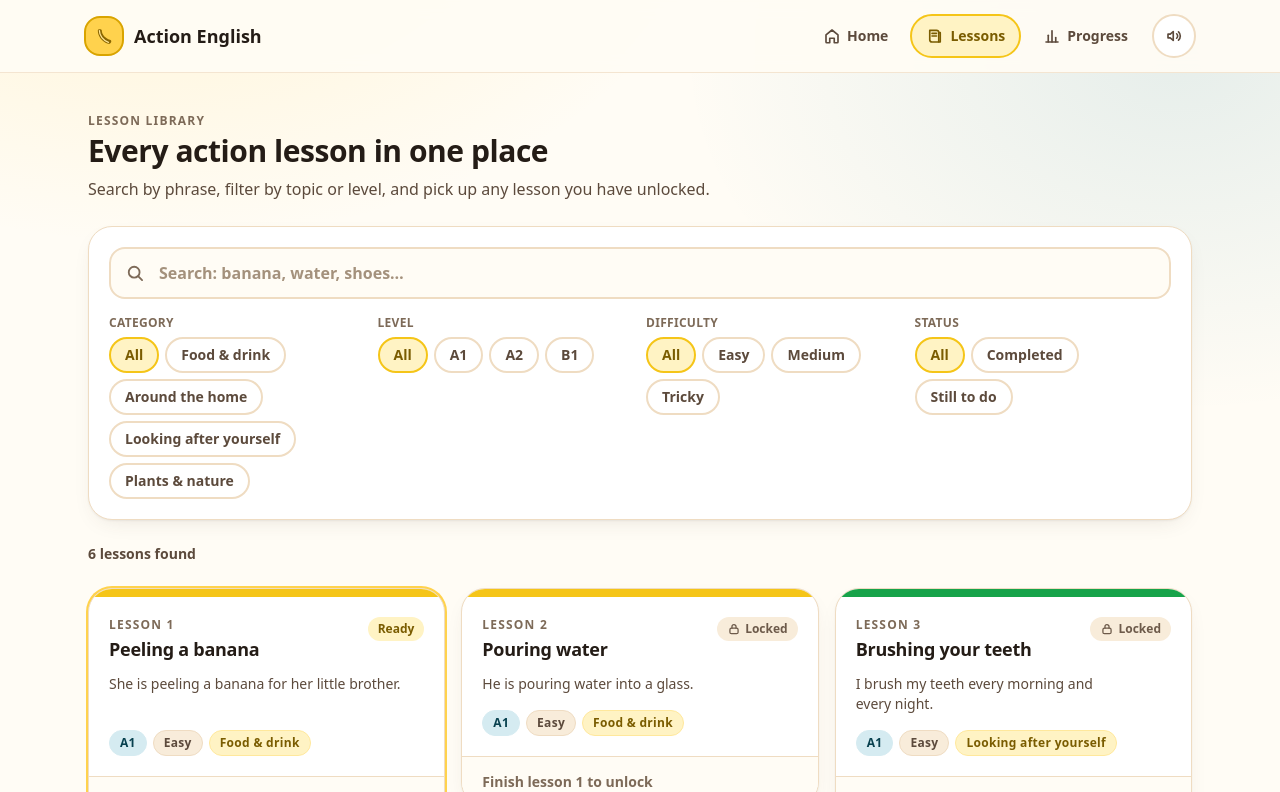
Test: lesson library › explains when nothing matches
Type "zzzz" into the search field named "search lessons" at (640, 273), box 109,247 -> 1171,299
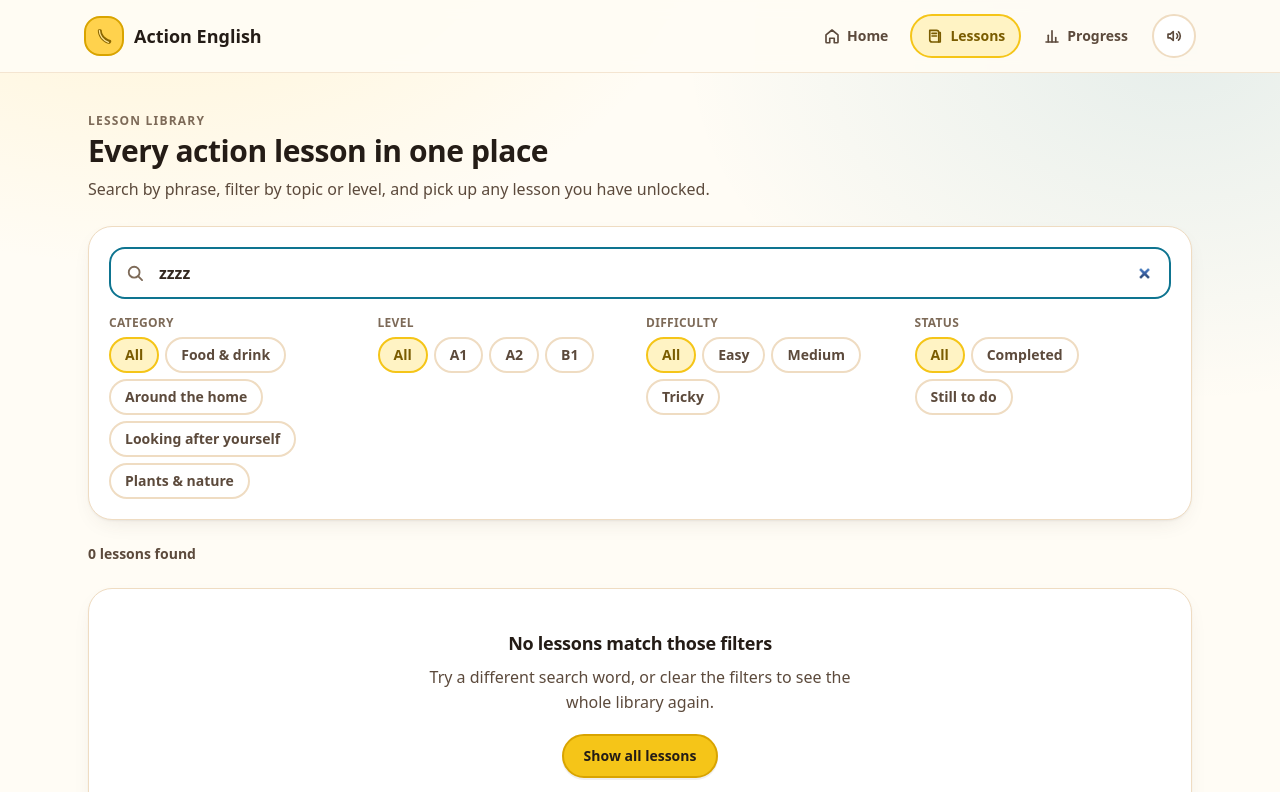
Check: the heading "No lessons match those filters" is shown, box 508,631 -> 772,655
